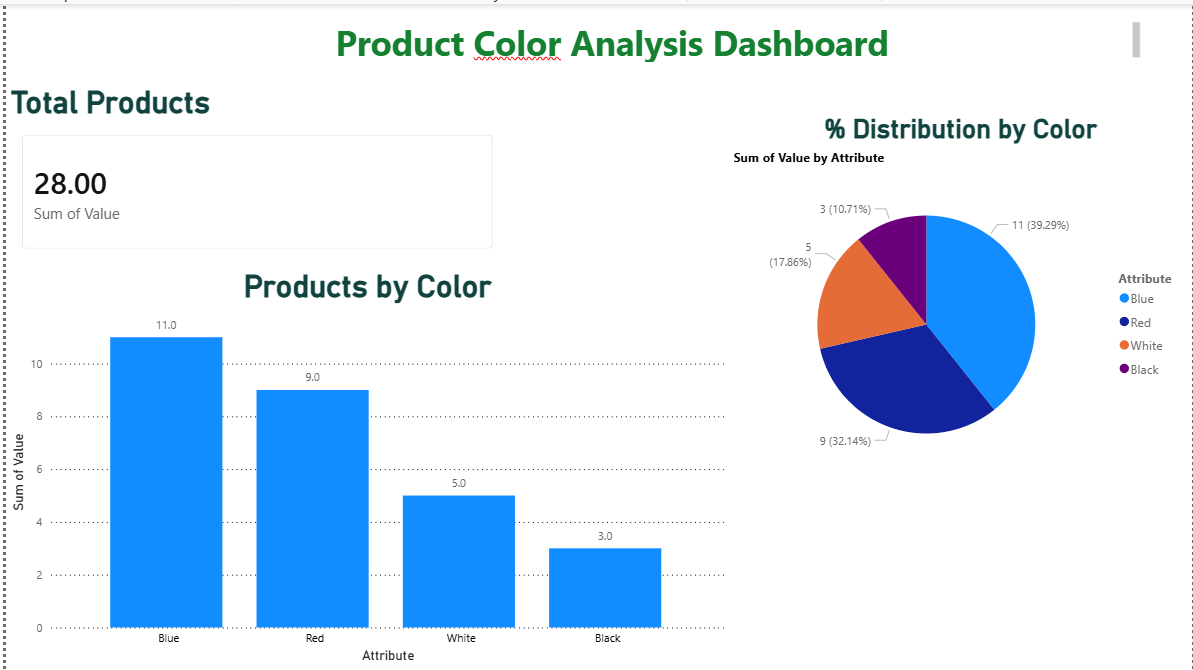

What the dashboard file says about the page in this screenshot:
{"tool":"powerbi","page":{"name":"Page 1","canvas":[1280,720],"ordinal":0},"visuals":[{"type":"cardVisual","title":"Total Products","fields":{"Data":["Sum(Color Model.Value)"]},"box":[0,85.8,542.4,195.9],"z":0},{"type":"clusteredColumnChart","title":"Products by Color","fields":{"Category":["Color Model.Attribute"],"Y":["Sum(Color Model.Value)"]},"box":[0,285,780.5,430.7],"z":1},{"type":"pieChart","title":"% Distribution by Color","fields":{"Category":["Color Model.Attribute"],"Y":["Sum(Color Model.Value)"]},"box":[779.7,118.2,500.3,399.9],"z":2},{"type":"textbox","box":[87.4,13,1141.6,53.4],"z":4}]}

Visuals, with their boxes in screenshot pixels (x1, y1, x2, y2), scaled from the page's 1280x720 canvas onto the 1193x670 screenshot:
"Total Products" cardVisual: 0/80/506/262
"Products by Color" clusteredColumnChart: 0/265/727/666
"% Distribution by Color" pieChart: 727/110/1192/482
textbox: 81/12/1145/62
